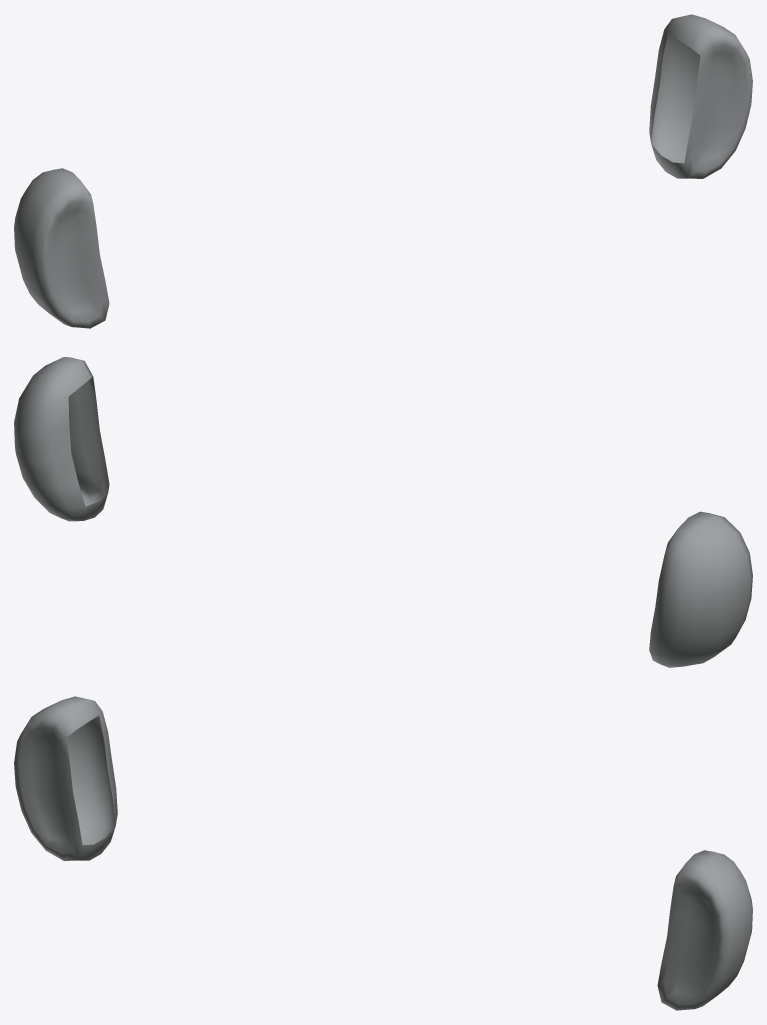
Rendered from Ears_15.glb.
3 views of the same model, one above another, from view 1: azimuth 30°, elevation 25°; view 2: azimuth 150°, elevation 25°; view 3: azimuth 330°, elevation 25° (orthographic).
Visible parts, largest first — view 1: Ears_15; view 2: Ears_15; view 3: Ears_15.
Part boxes in pixels (x1=…): Ears_15: x1=14, y1=14, x2=752, y2=328; Ears_15: x1=14, y1=357, x2=752, y2=667; Ears_15: x1=14, y1=696, x2=752, y2=1010.
Size of the model in its own units: 0.6554 by 0.1295 by 0.076.
1 material, 1 textured.
